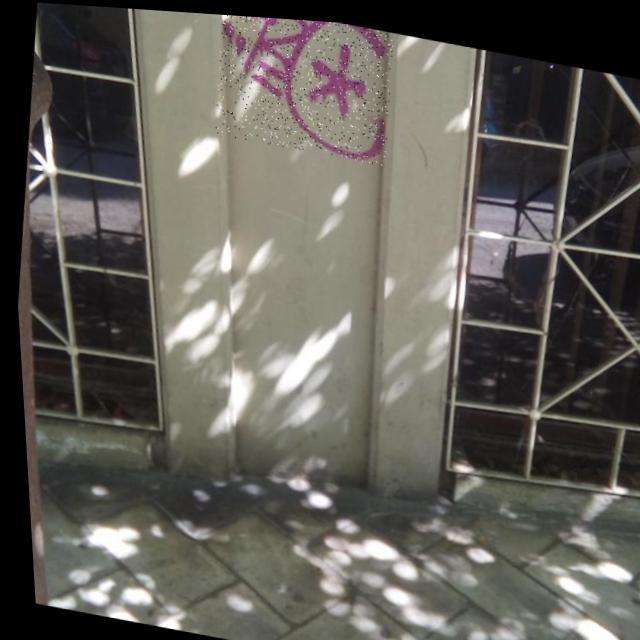-: (207, 11, 399, 160)
